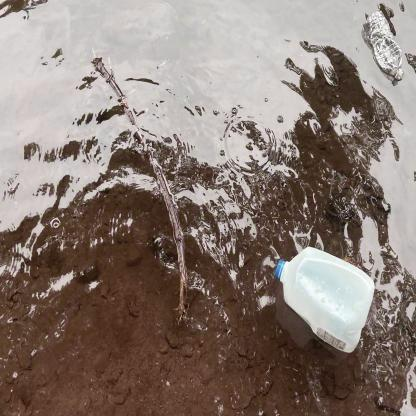Plastic: (270, 242, 378, 360), (360, 8, 410, 86)
